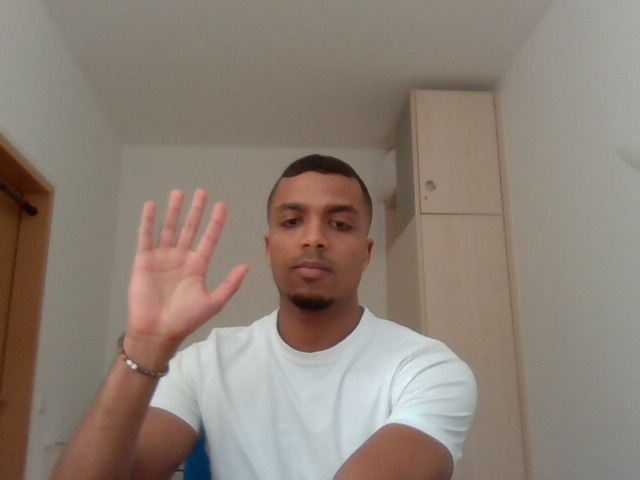hello: (97, 167, 255, 363)
